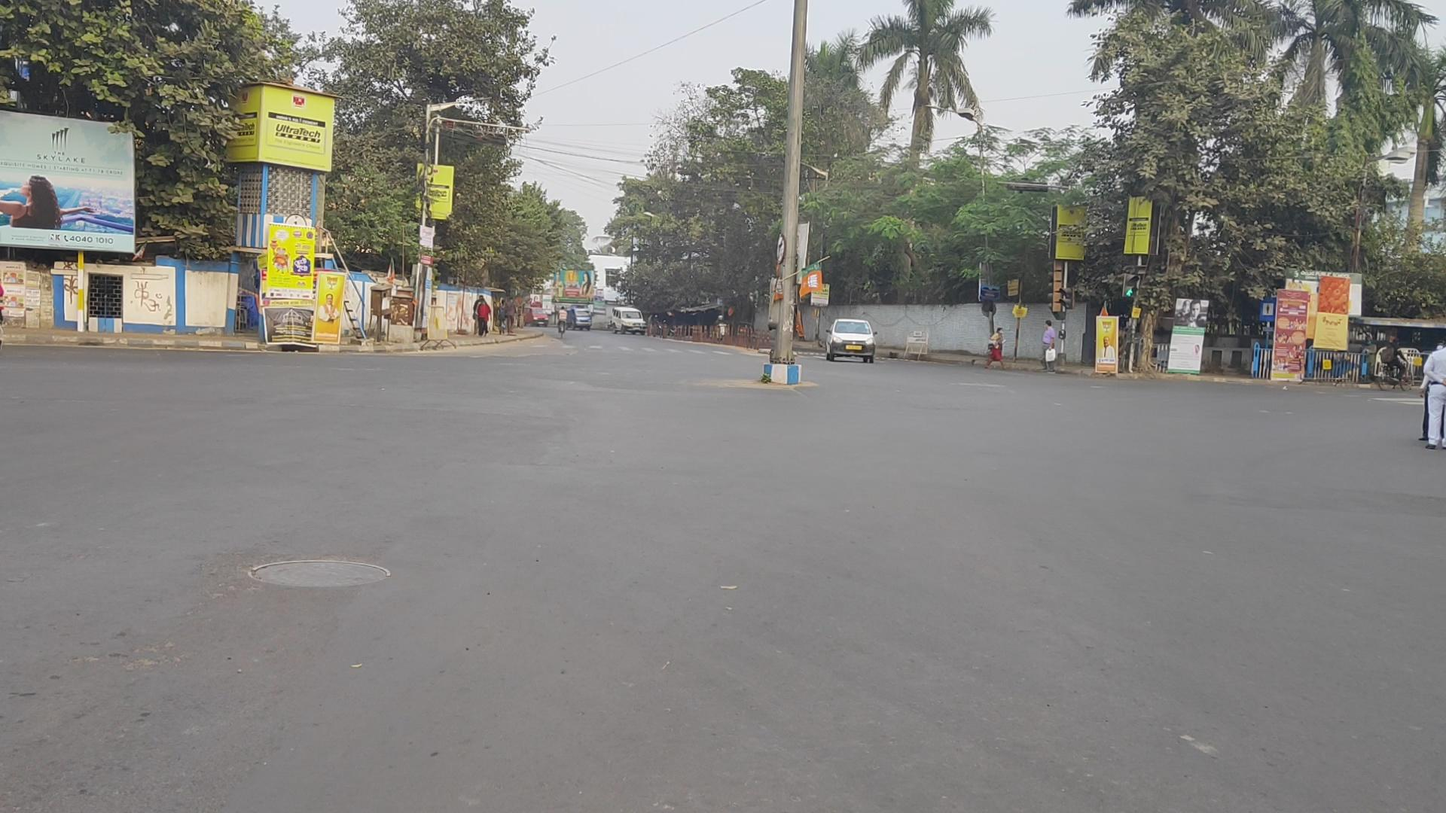bike: (1377, 338, 1414, 392), (556, 306, 568, 340)
car: (825, 318, 877, 364), (610, 307, 648, 337)
